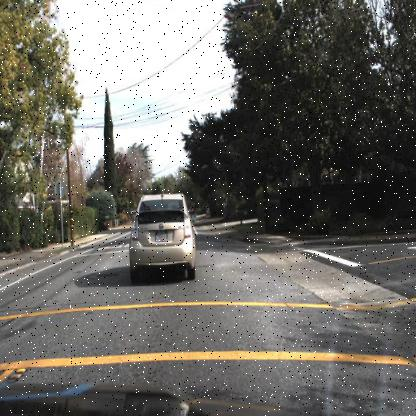car: (129, 186, 191, 280)
